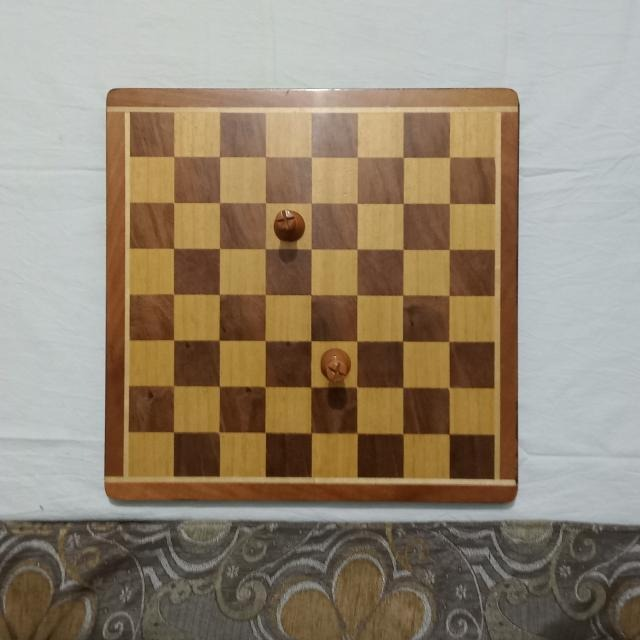white-rook: (272, 208, 307, 244), (319, 347, 353, 384)
